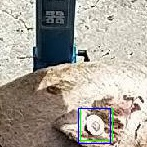text: (80, 108, 112, 140)
